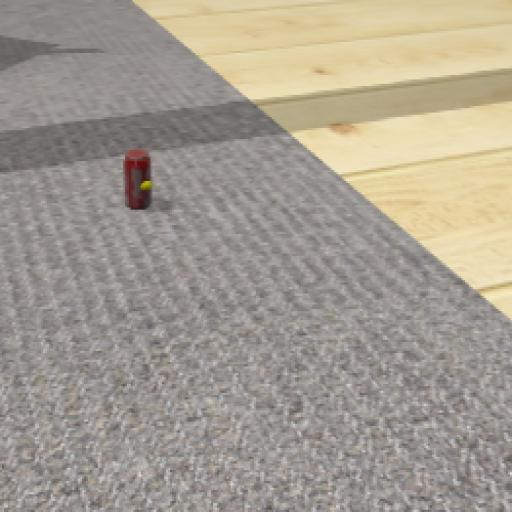COCA: (90, 86, 194, 249)
